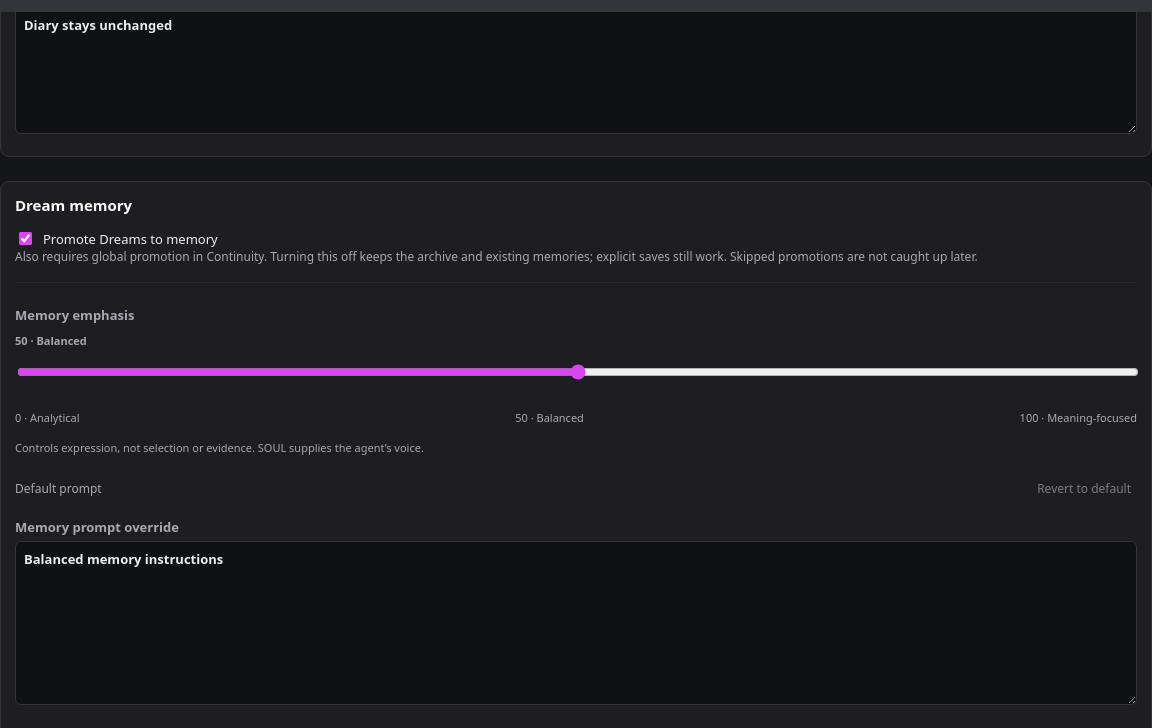
Test: defaults memory emphasis to Balanced and saves overrides without changing the diary prompt
The width and height of the screenshot is (1152, 728).
(page scrolled)
Check: the text box labelled "Memory prompt override" holds "Balanced memory instructions", box [15, 541, 1137, 705]
Press the mouse on the slider labelled "Memory emphasis": [578, 372] box [17, 355, 1139, 389]
Set the slider labelled "Memory emphasis" to "100": [1131, 372] box [17, 355, 1139, 389]
(page scrolled)
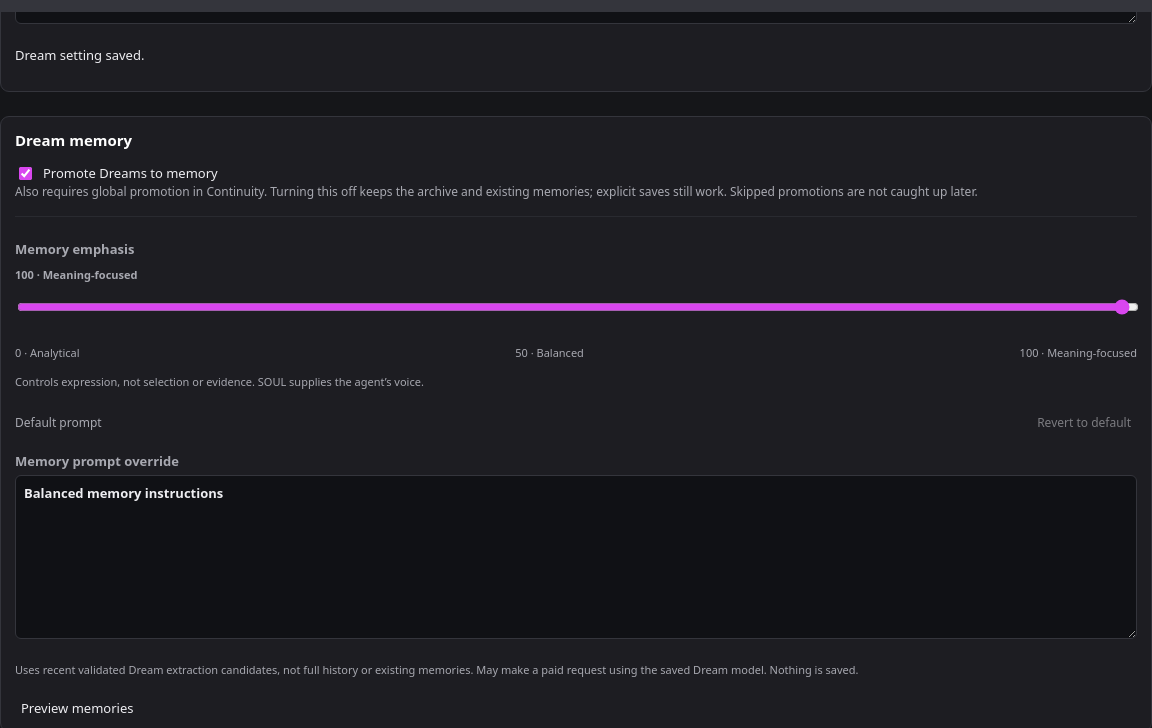
Check: the slider labelled "Memory emphasis" is enabled, box [17, 290, 1139, 324]
Replace the text in the text box labelled "Memory prompt override" with "Custom grounded expression": [576, 557] box [15, 475, 1137, 639]
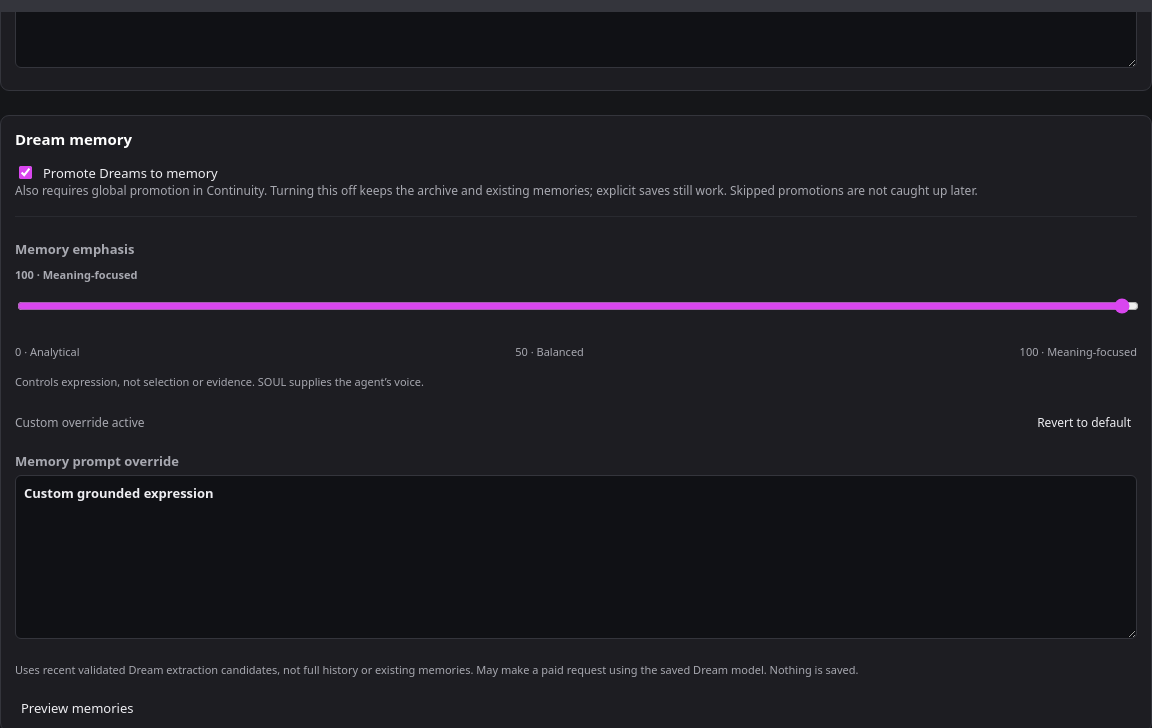
Check: the text "Custom override active" is shown, box [15, 415, 145, 432]
Leave the text box labelled "Memory prompt override", box [15, 475, 1137, 639]
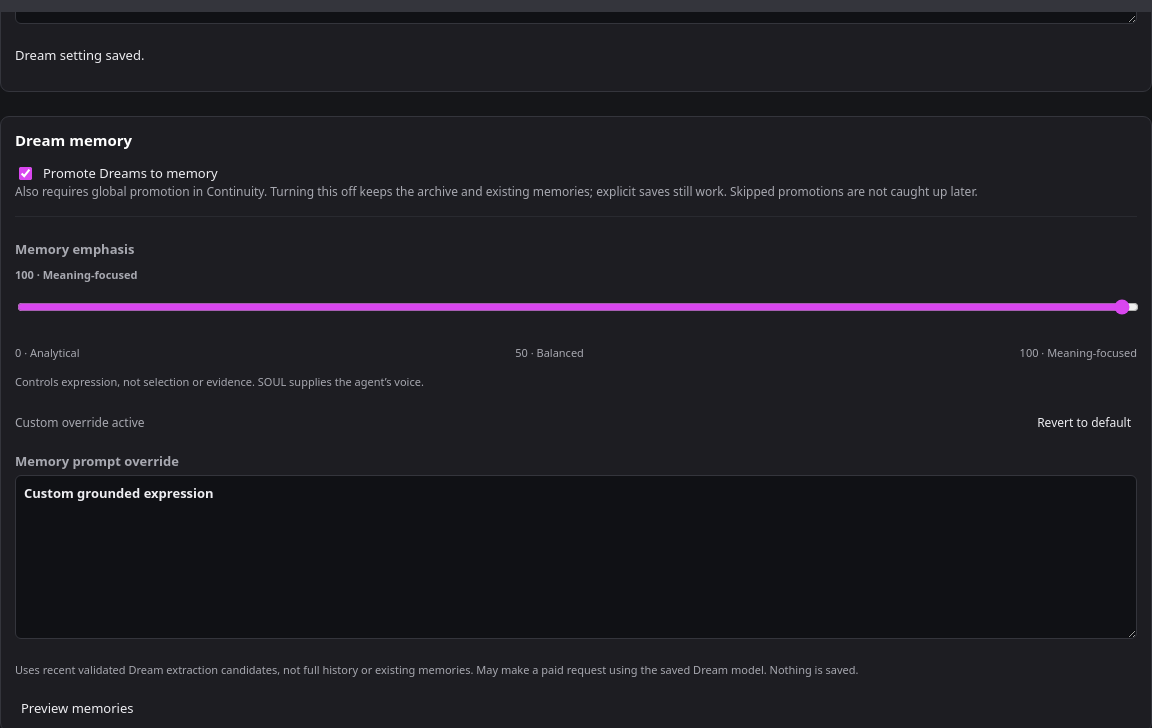
Click the button "Revert to default": [1084, 424] box [1031, 414, 1137, 433]
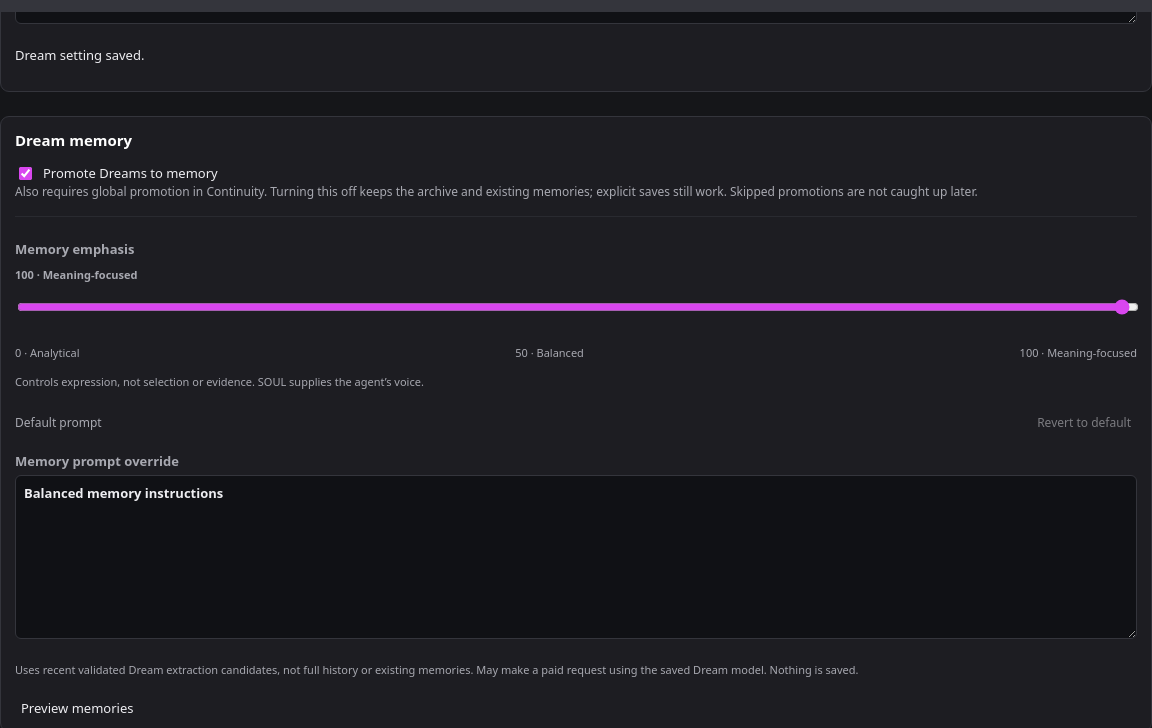
Check: the slider labelled "Memory emphasis" is enabled, box [17, 290, 1139, 324]
Check: the text box labelled "Memory prompt override" holds "Balanced memory instructions", box [15, 475, 1137, 639]
Check: the text "Default prompt" is shown, box [15, 415, 102, 432]
